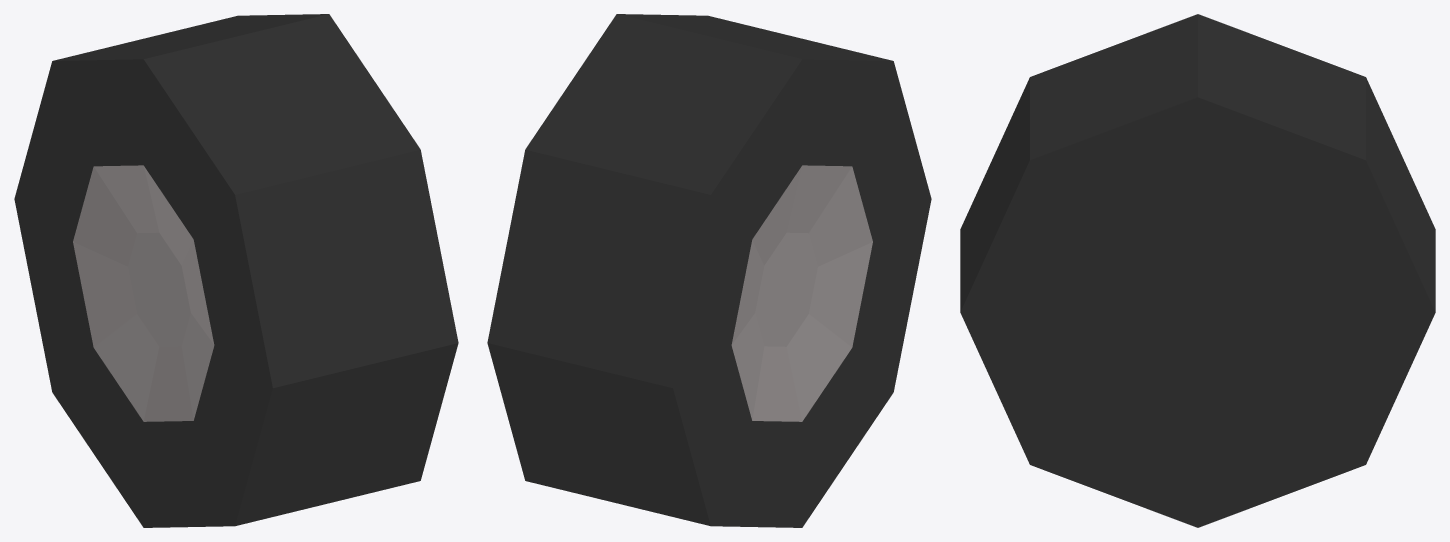
File: forklift-wheel_BR.glb
The picture shows the model from 3 angles, left to right: view 1: azimuth 30°, elevation 25°; view 2: azimuth 150°, elevation 25°; view 3: azimuth 270°, elevation 25°; orthographic projection. The views are drawn at different scales.
Parts seen in each view (by area): view 1: forklift-wheel_BR; view 2: forklift-wheel_BR; view 3: forklift-wheel_BR.
Part boxes in pixels (x1,y1,x2,y2): forklift-wheel_BR: (14, 14, 458, 527); forklift-wheel_BR: (487, 14, 931, 527); forklift-wheel_BR: (960, 14, 1435, 527).
Size of the model in its own units: 0.1715 by 0.4138 by 0.4138.
Materials: 1 (1 with a texture image).
